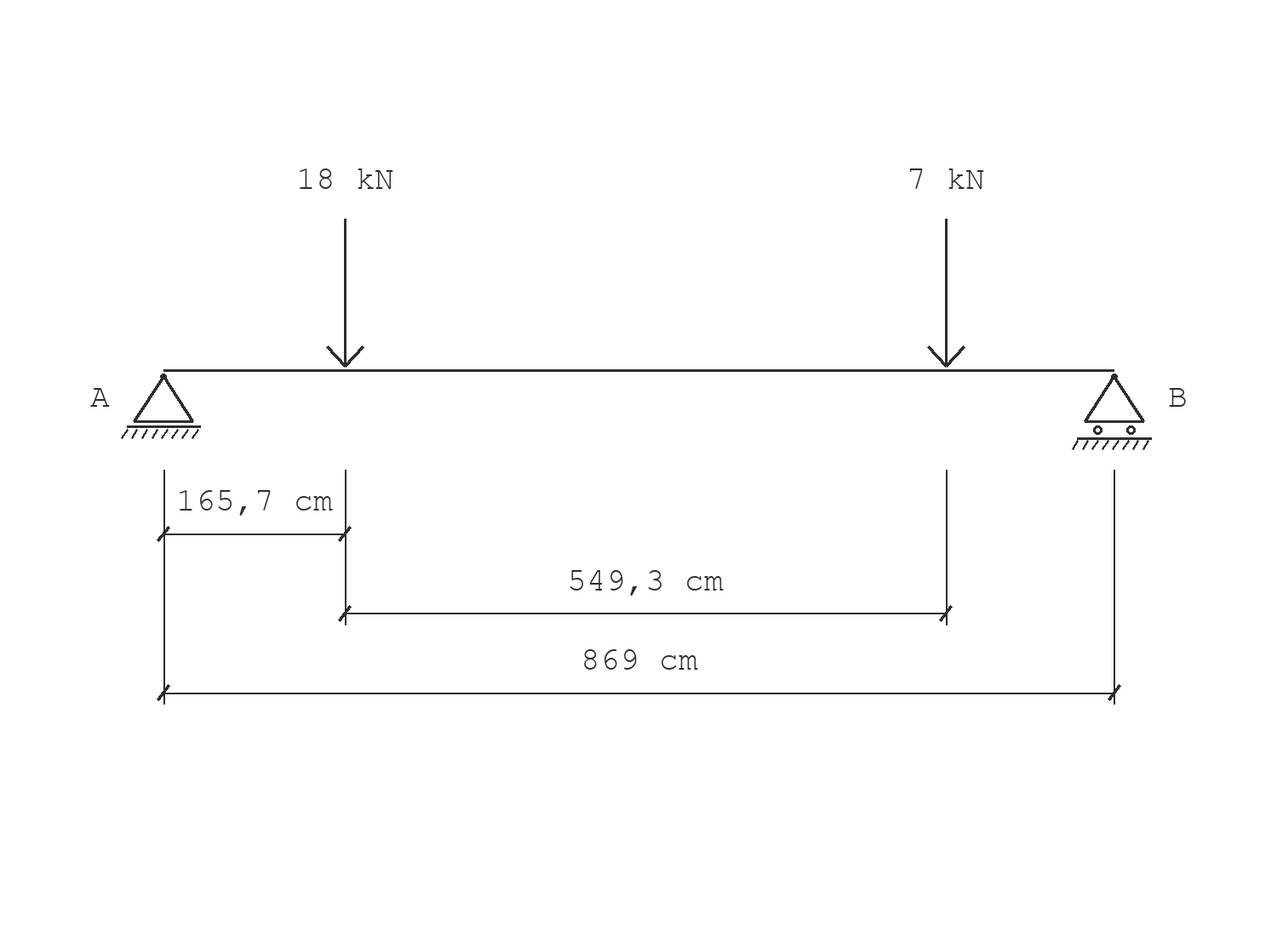pin_support: (121, 374, 201, 439)
point_load: (326, 219, 364, 368), (927, 219, 965, 368)
roller_support: (1072, 374, 1152, 450)
